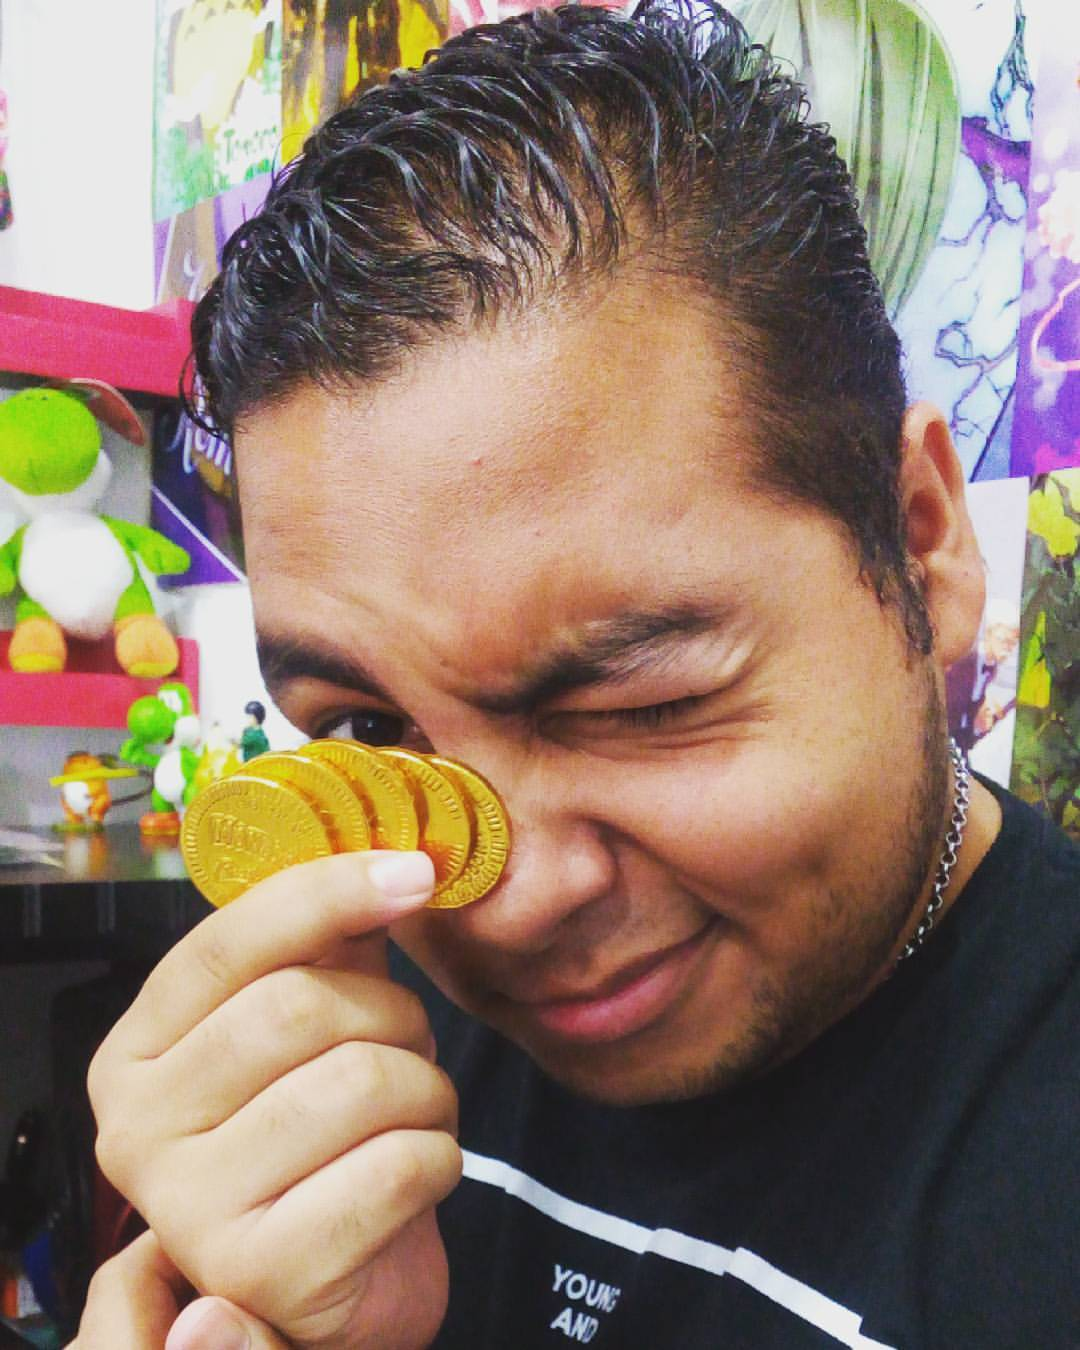Yoshi: (151, 23, 1028, 1132)
